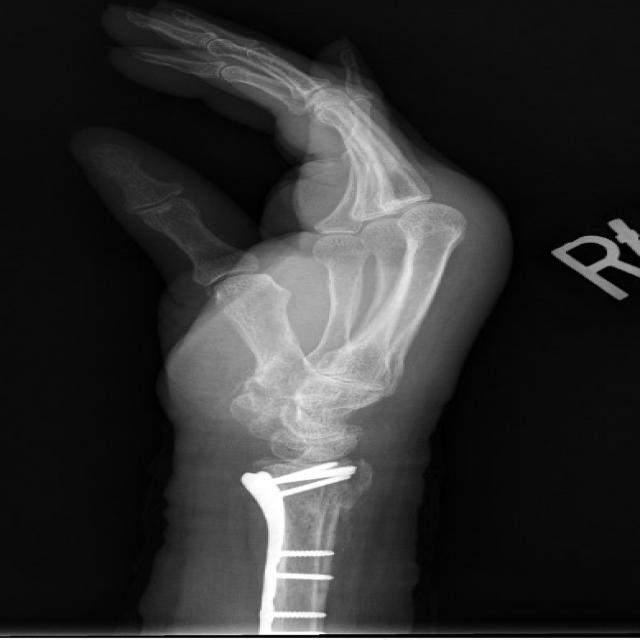x-ray: (229, 455, 367, 639)
